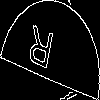R: (25, 25, 55, 79)
